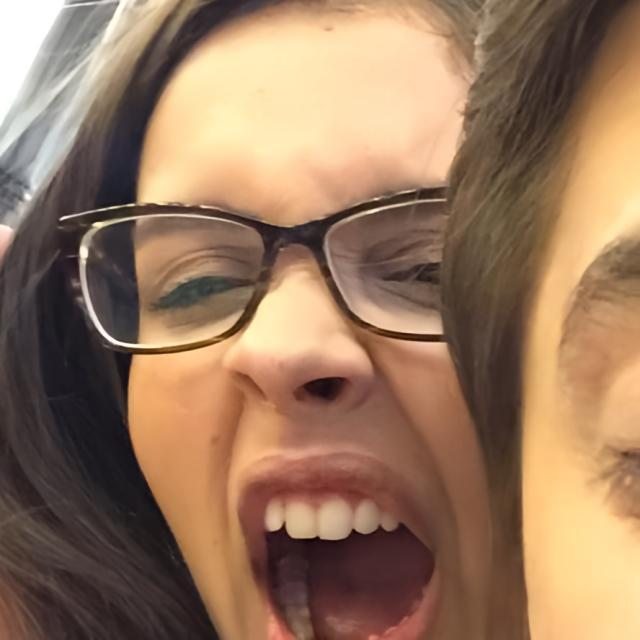anger: (118, 60, 518, 640)
